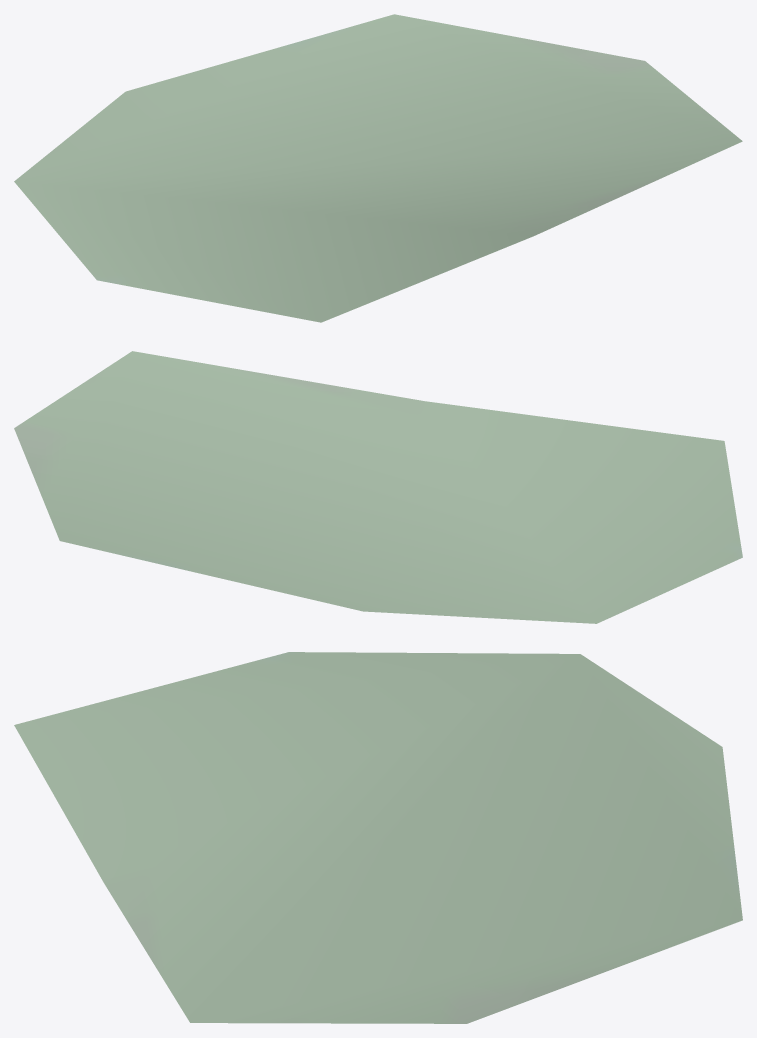
Rendered from TROLLHOLE02_HOLECAP24.fbx.
The picture shows the model from 3 angles, top to bottom: view 1: azimuth 30°, elevation 25°; view 2: azimuth 150°, elevation 25°; view 3: azimuth 270°, elevation 25°; orthographic projection. The views are drawn at different scales.
Visible parts, largest first — view 1: TROLLHOLE02_HOLECAP24; view 2: TROLLHOLE02_HOLECAP24; view 3: TROLLHOLE02_HOLECAP24.
Boxes of the visible parts, bbox=[...] form: TROLLHOLE02_HOLECAP24: bbox=[14, 14, 742, 322]; TROLLHOLE02_HOLECAP24: bbox=[14, 351, 742, 623]; TROLLHOLE02_HOLECAP24: bbox=[14, 652, 742, 1023].
Bounding box in the file's own units: 29760 × 1222 × 23008.
Materials: 1 (1 with a texture image).
